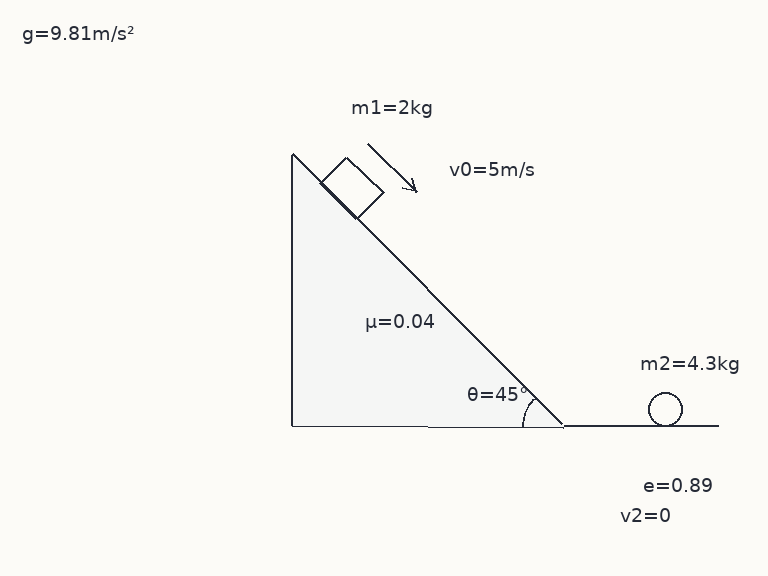ball: (646, 390, 684, 428)
block: (318, 155, 385, 221)
ramp: (289, 152, 565, 428)
